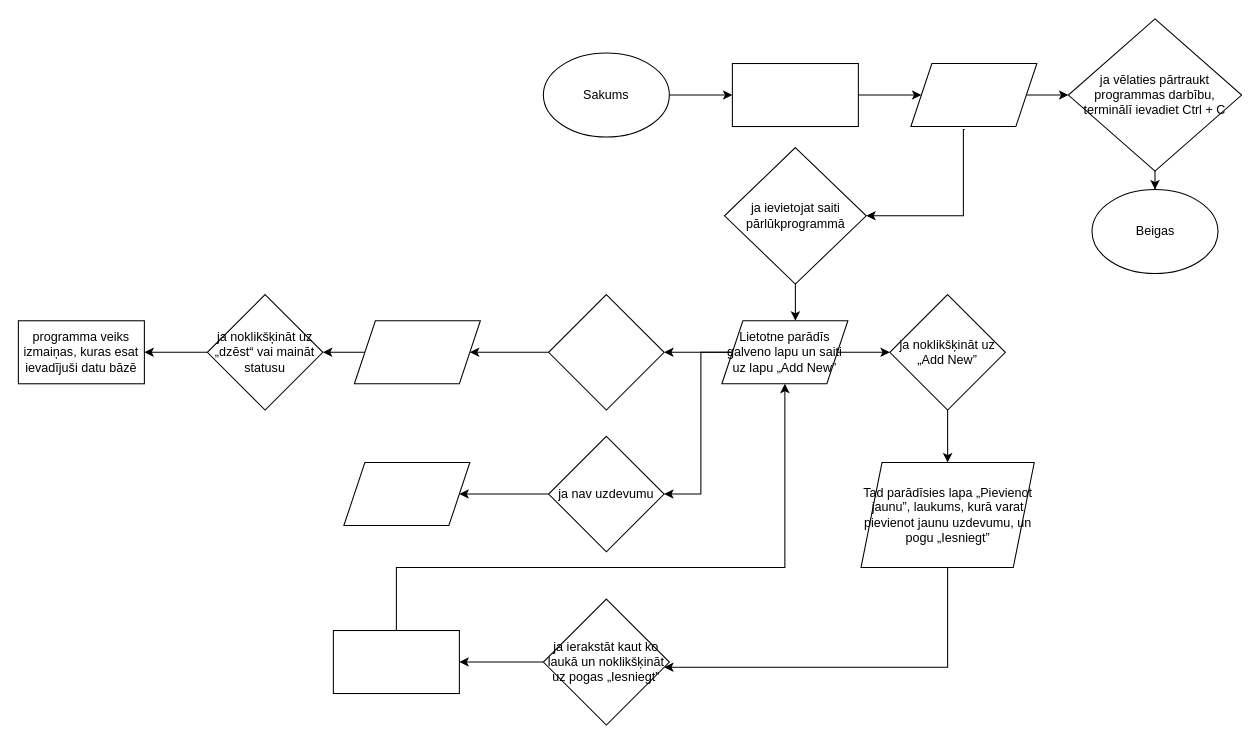
This 1260x743 diagram has some shape labels left out. The centre of each missing label's shape, as x and y in pixels:
Izdrukāšana terminālī — HTTP saite uz serveri: the point at 973,94
ja datu bāzē jau ir kāds uzdevums: the point at 606,351
lietotne to saglabā datu bāzes failā un atgriež jūs uz galveno lapu: the point at 395,661
programma izdrukā šo uzdevumu: the point at 416,352
programma, kas izdrukā to, kas tev nav uzdevumos: the point at 406,493
V ietējā servera izvietošana: the point at 794,94
